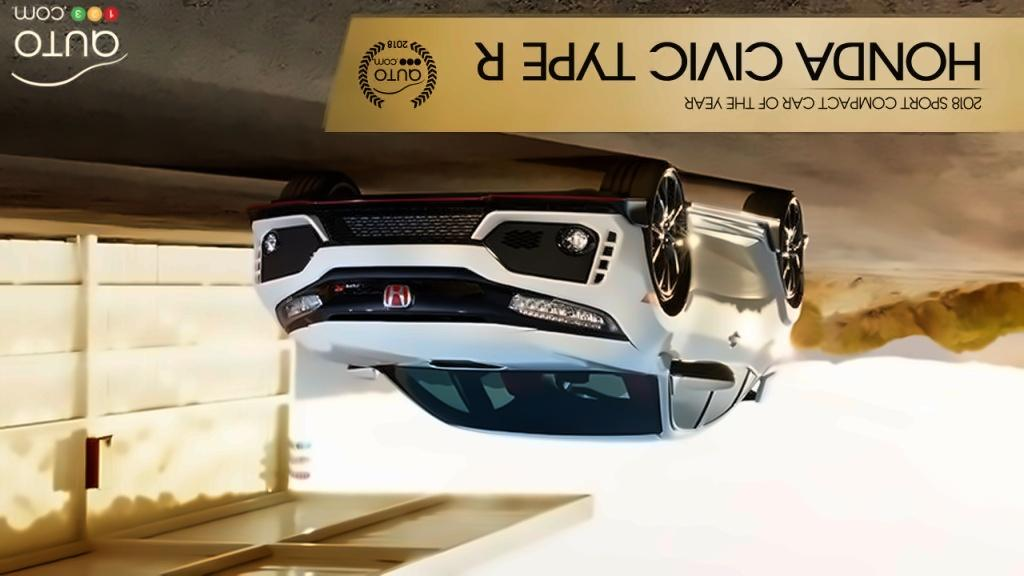Car hood: (283, 319, 651, 376)
Driver-s door - -F-R-: (675, 216, 744, 433)
Fender - -F-R-: (615, 205, 696, 376)
Fender - -R-R-: (770, 244, 798, 359)
Front bumper: (243, 188, 657, 301)
Headlight - -L-: (269, 288, 325, 334)
Headlight - -R-: (507, 289, 616, 338)
Passenger-s door - -R-R-: (714, 217, 768, 431)
Side bumper - -R-: (682, 199, 786, 255)
Side mirror - -L-: (343, 356, 386, 389)
Side mirror - -R-: (663, 353, 738, 398)
